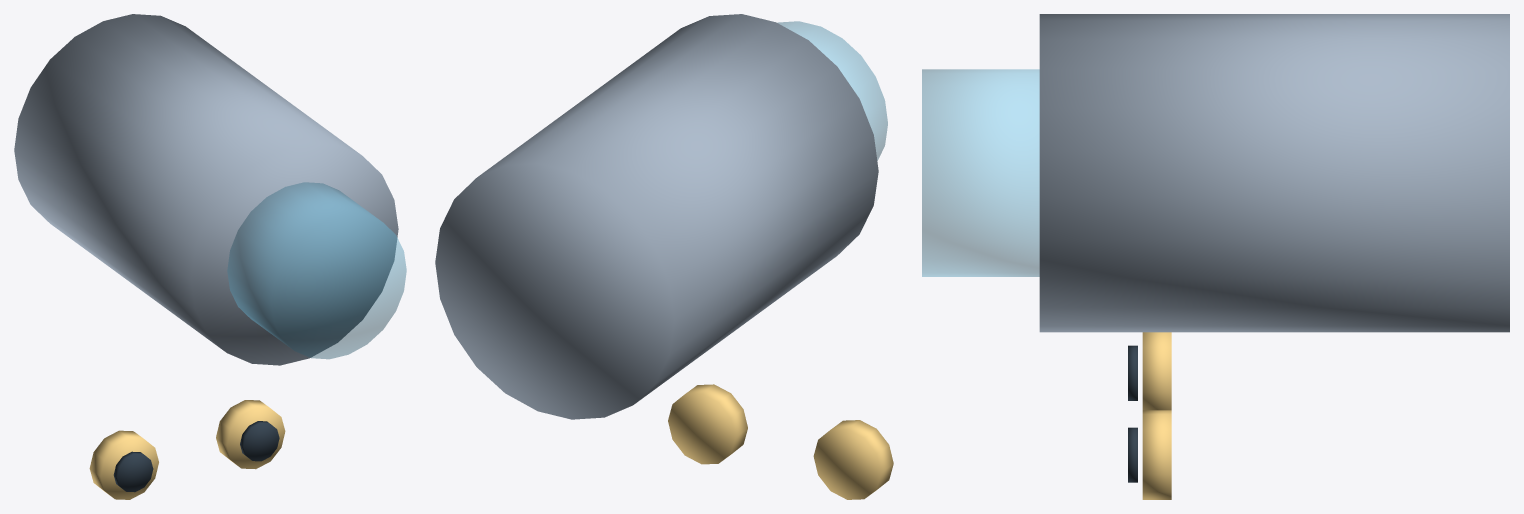
File: 78_L90_OpticalPlumeSpectrometer.glb
3 renders of one model, left to right at view 1: azimuth 30°, elevation 25°; view 2: azimuth 150°, elevation 25°; view 3: azimuth 270°, elevation 25°, orthographic. The views are drawn at different scales.
Visible parts, largest first — view 1: L90_OpticalPlumeSpectrometer, L90_OpticalPlumeSpectrometer_Part_0001, L90_OpticalPlumeSpectrometer_Part_0004, L90_OpticalPlumeSpectrometer_Part_0002, L90_OpticalPlumeSpectrometer_Part_0005, L90_OpticalPlumeSpectrometer_Part_0003; view 2: L90_OpticalPlumeSpectrometer, L90_OpticalPlumeSpectrometer_Part_0004, L90_OpticalPlumeSpectrometer_Part_0002, L90_OpticalPlumeSpectrometer_Part_0001; view 3: L90_OpticalPlumeSpectrometer, L90_OpticalPlumeSpectrometer_Part_0001, L90_OpticalPlumeSpectrometer_Part_0004, L90_OpticalPlumeSpectrometer_Part_0002.
Boxes of the visible parts, x1,y1,x2,y2 form: L90_OpticalPlumeSpectrometer: (14,14,398,365); L90_OpticalPlumeSpectrometer_Part_0001: (227,182,406,359); L90_OpticalPlumeSpectrometer_Part_0004: (216,400,285,469); L90_OpticalPlumeSpectrometer_Part_0002: (89,430,158,499); L90_OpticalPlumeSpectrometer_Part_0005: (240,421,279,461); L90_OpticalPlumeSpectrometer_Part_0003: (113,451,153,492); L90_OpticalPlumeSpectrometer: (435,14,878,419); L90_OpticalPlumeSpectrometer_Part_0004: (668,384,747,464); L90_OpticalPlumeSpectrometer_Part_0002: (813,420,893,499); L90_OpticalPlumeSpectrometer_Part_0001: (777,21,887,160); L90_OpticalPlumeSpectrometer: (1039,14,1509,332); L90_OpticalPlumeSpectrometer_Part_0001: (922,69,1039,276); L90_OpticalPlumeSpectrometer_Part_0004: (1142,410,1171,499); L90_OpticalPlumeSpectrometer_Part_0002: (1142,332,1171,410).
Bounding box in the file's own units: 0.575 × 0.7427 × 0.85.
